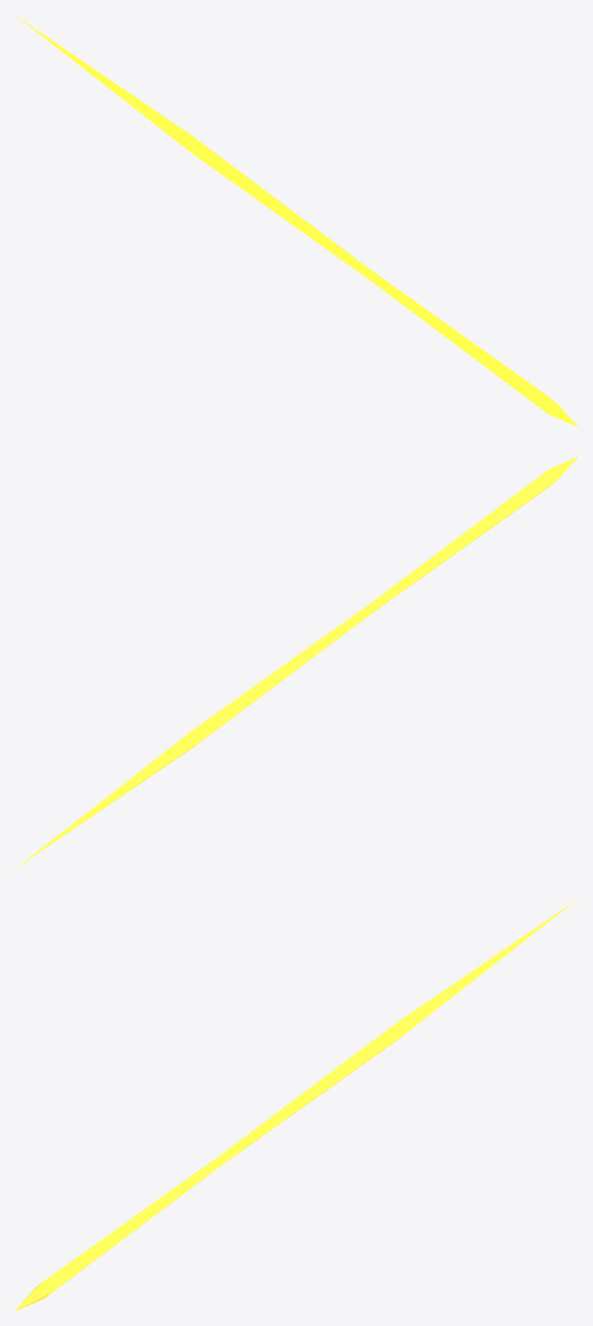
Rendered from bullet-line.glb.
The picture shows the model from 3 angles, top to bottom: view 1: azimuth 30°, elevation 25°; view 2: azimuth 150°, elevation 25°; view 3: azimuth 330°, elevation 25°; orthographic projection.
Visible parts, largest first — view 1: bullet-line; view 2: bullet-line; view 3: bullet-line.
Part boxes in pixels (<box>): bullet-line: <box>17,16,578,427</box>; bullet-line: <box>17,456,578,867</box>; bullet-line: <box>14,900,575,1311</box>.
Size of the model in its own units: 0.1107 by 0.1107 by 6.36.
Materials: 1 (1 with a texture image).
